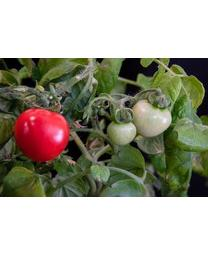cherry: (14, 109, 69, 161)
